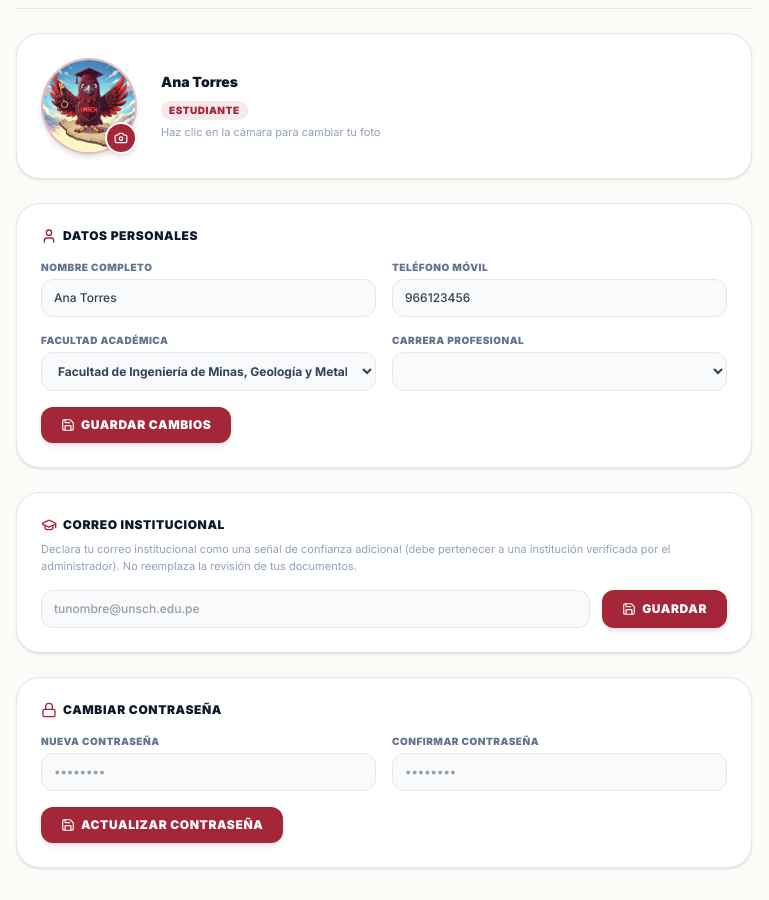
Scenario: AccountSettingsPage › valida que las contraseñas coincidan
(page scrolled)
Type "secreta123" into the password field with placeholder "••••••••" below "Nueva Contraseña" at (208, 772), box [41,753,376,791]
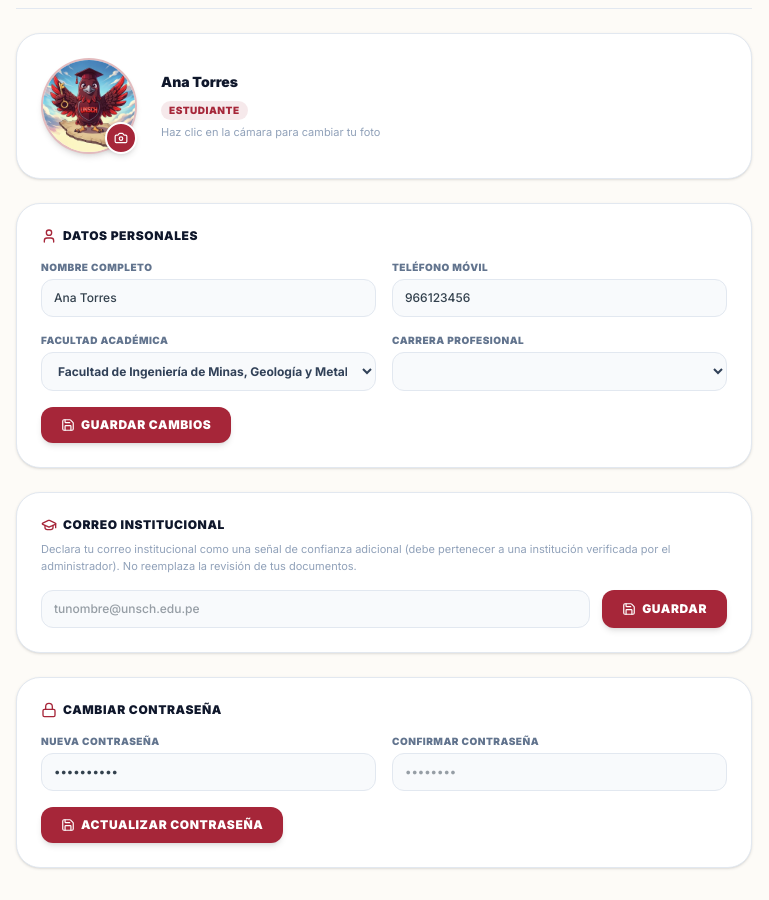
Type "otraClave1" into the password field with placeholder "••••••••" at (560, 772), box [392,753,727,791]
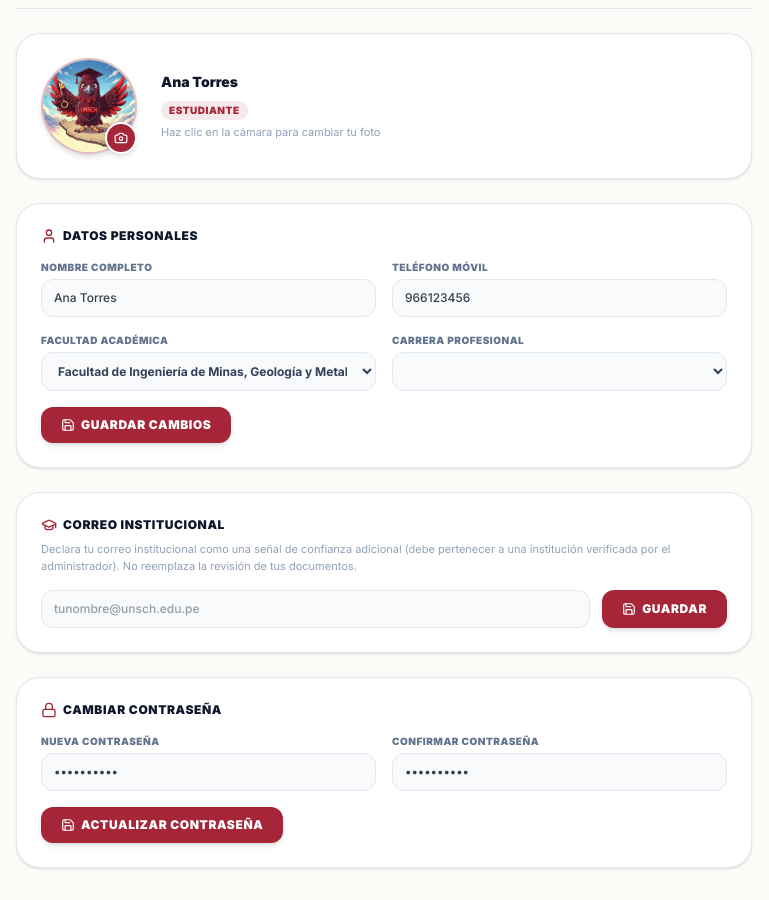
Click the button "Actualizar Contraseña" at (162, 825), box [41,807,283,843]
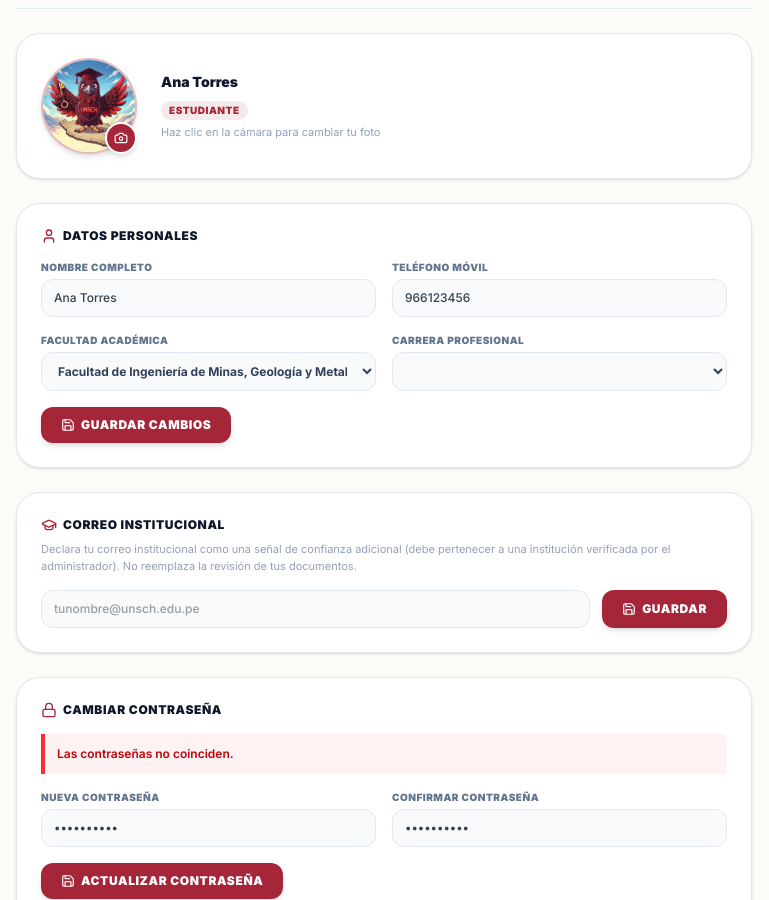
Expected: the text "Las contraseñas no coinciden." is shown, [41,734,727,774]
